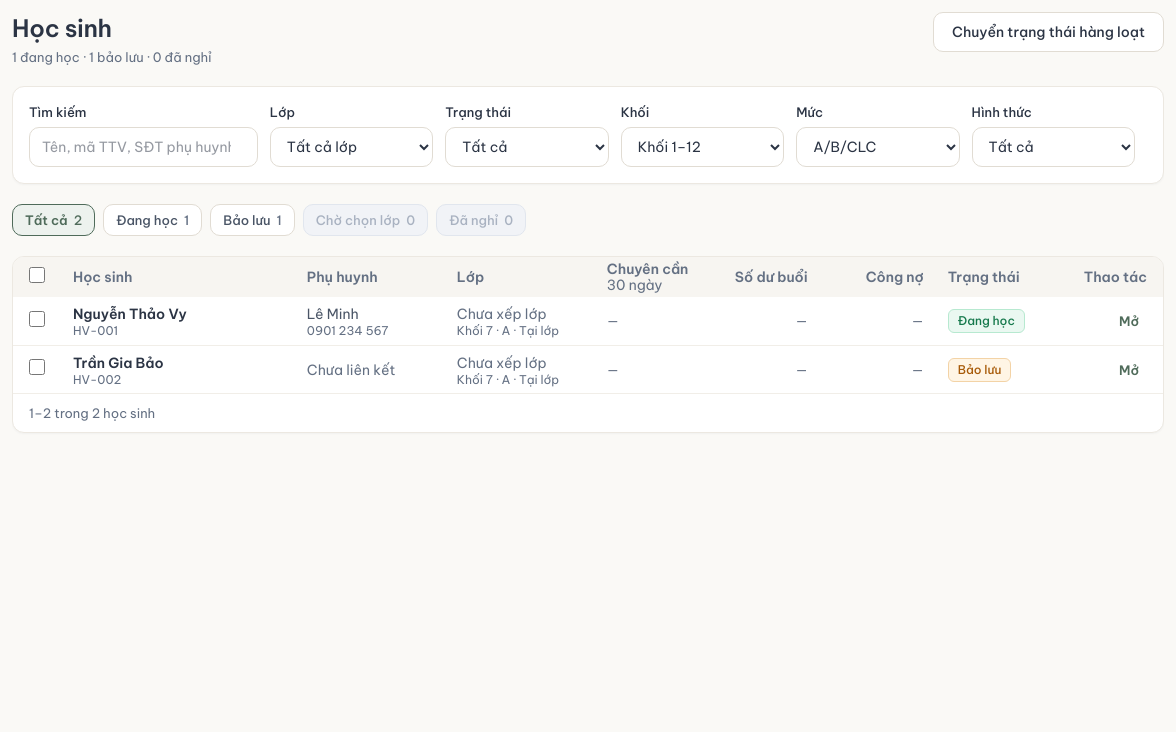
Test case: Students directory page selection and quick chips › clears bulk selection when the filter changes
This screenshot has width=1176, height=732.
Click the checkbox named "Chọn Nguyễn Thảo Vy" at (37, 318), box [29,310,45,326]
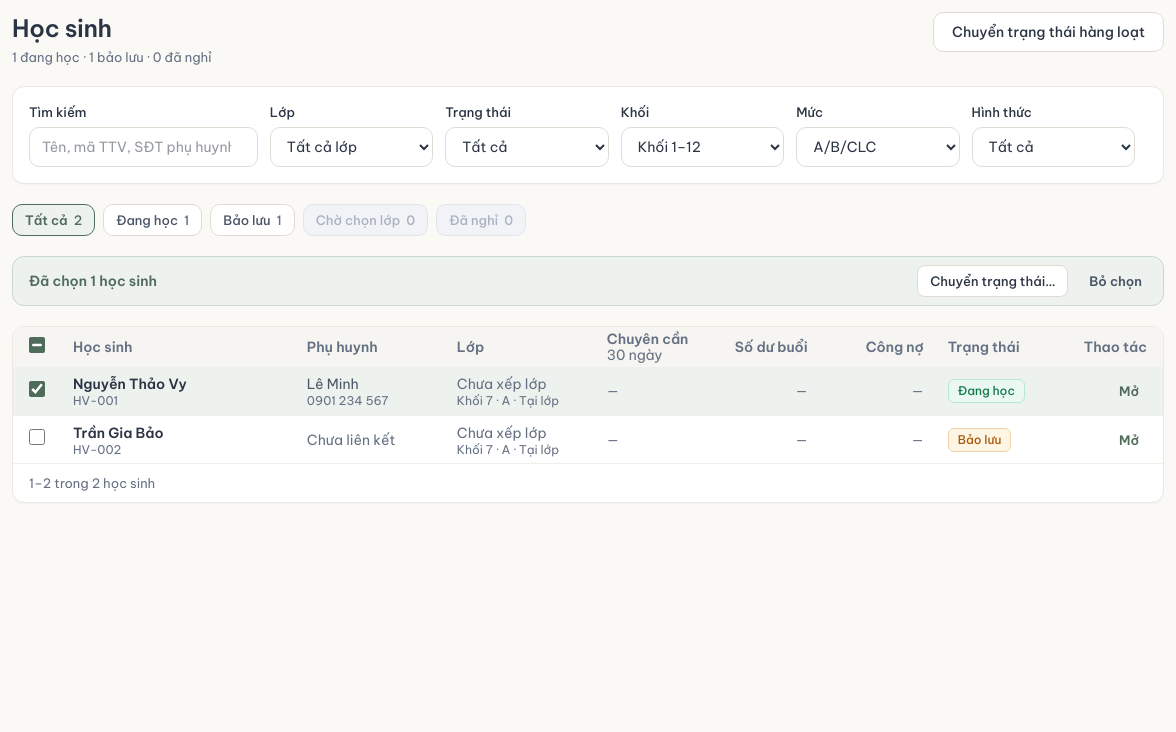
Expected: the element "Đã chọn 1 học sinh" is shown, [12,256,1164,306]
Click the button "Bảo lưu 1" at (252, 220), box [210,204,295,236]
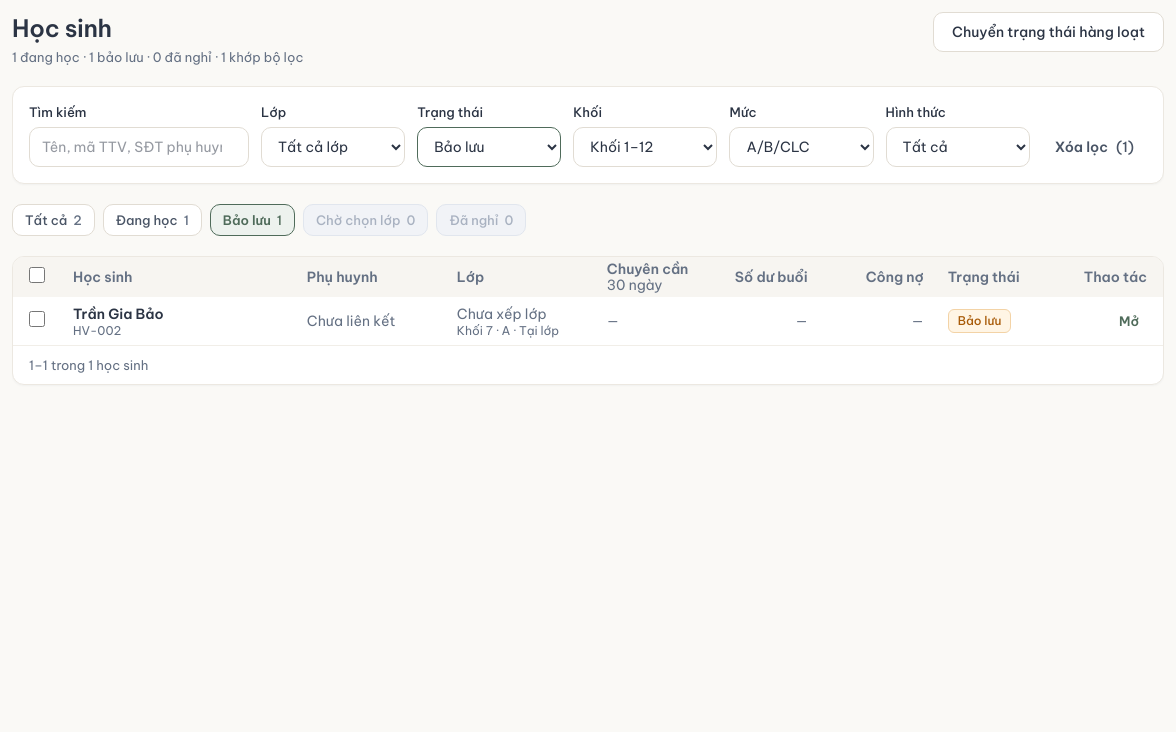
Expected: the text "Đã chọn" is gone
